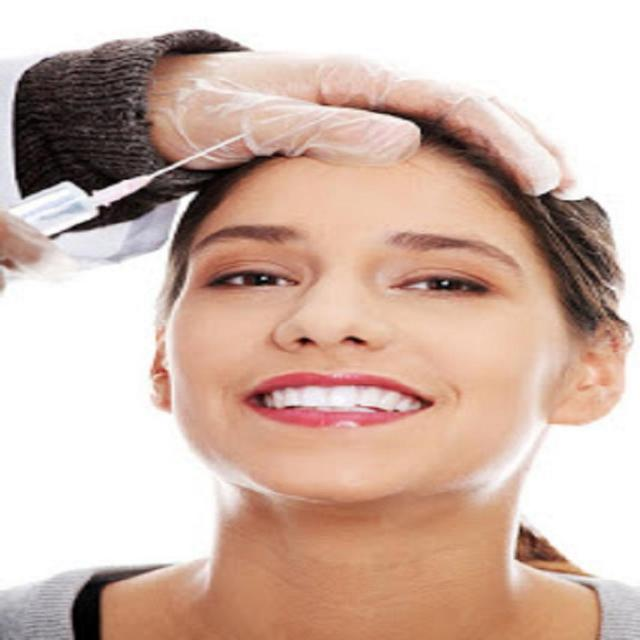nomask: (167, 139, 552, 497)
